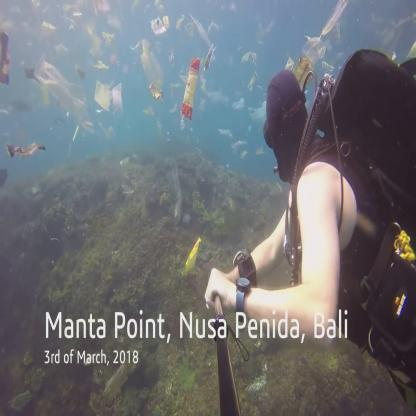Rác: (33, 52, 92, 140), (137, 35, 165, 113), (166, 150, 184, 222), (92, 78, 130, 112), (186, 14, 216, 50), (183, 51, 198, 118), (6, 138, 49, 153), (83, 2, 114, 22), (120, 160, 136, 194), (102, 44, 120, 70), (188, 237, 198, 274), (34, 23, 56, 36)
